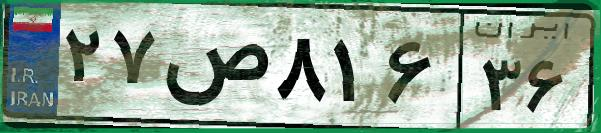1: (330, 28, 385, 110)
2: (57, 26, 110, 100)
3: (475, 38, 525, 113)
6: (385, 28, 445, 110), (525, 38, 570, 115)
7: (110, 28, 158, 98)
8: (270, 28, 330, 110)
ص: (158, 20, 270, 120)
